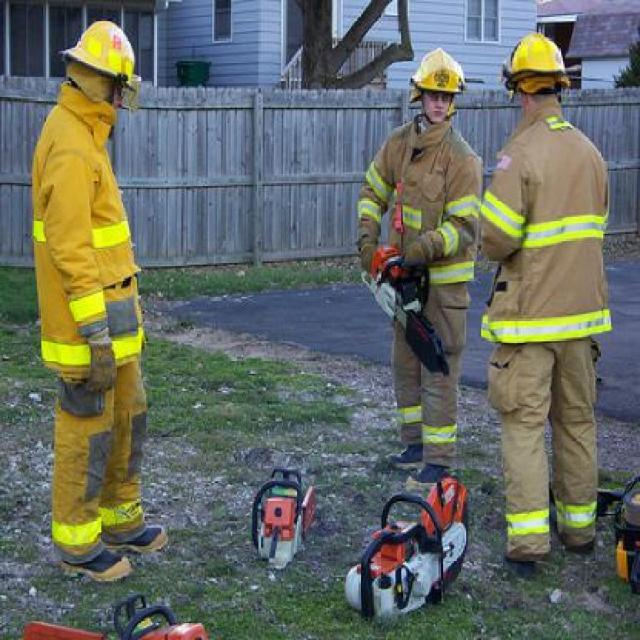Chainsaw: (346, 475, 471, 620), (362, 244, 449, 376), (28, 595, 206, 640), (249, 466, 314, 571)
